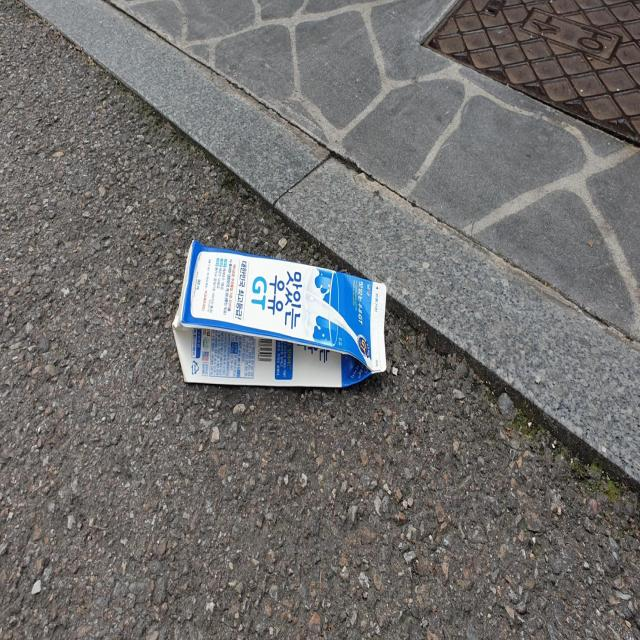paperpack: (172, 239, 386, 386)
